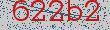2: (47, 1, 66, 29), (30, 1, 48, 29), (83, 1, 102, 25)
6: (10, 1, 30, 27)
b: (66, 1, 85, 28)
